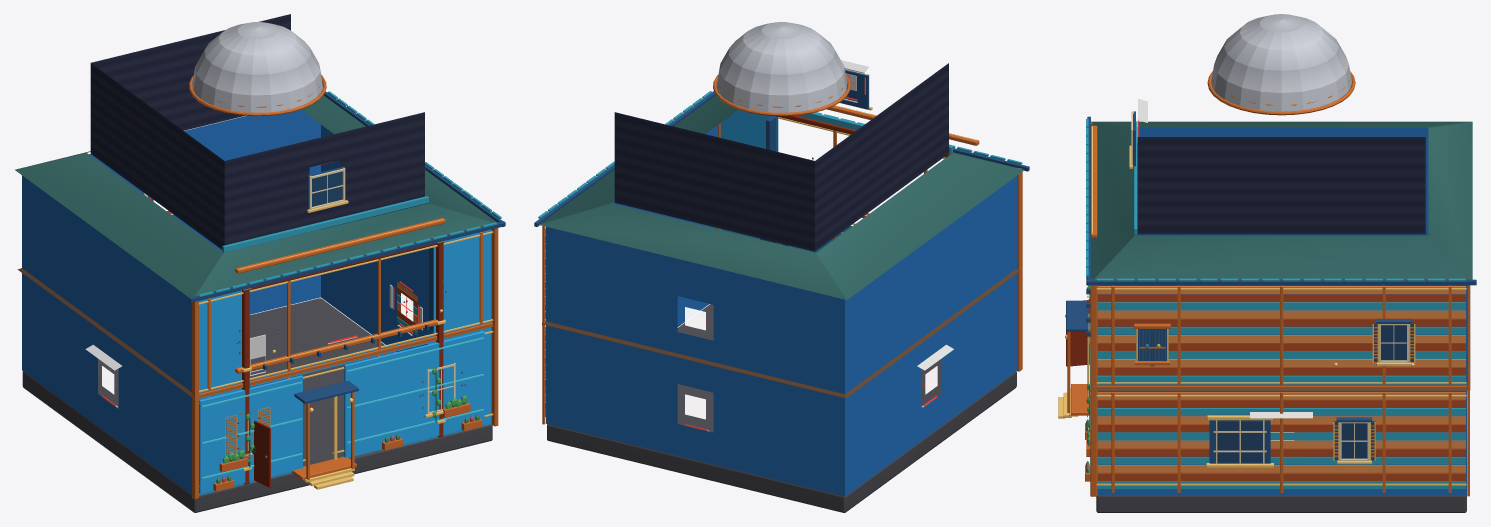
Rendered from exterior-home-CyvSRCr6.glb.
The picture shows the model from 3 angles, left to right: view 1: azimuth 30°, elevation 25°; view 2: azimuth 150°, elevation 25°; view 3: azimuth 270°, elevation 25°; orthographic projection. The views are drawn at different scales.
Visible parts, largest first — view 1: WallLeft, RoofMain, Foundation, ObsFront, ObsLeft, EXT_GroundFacade_Right, WallFront, ObsDome, EXT_GroundFacade_Left, ObsBack, WallRight, WallBack (+18 smaller); view 2: WallBack, WallLeft, RoofMain, ObsBack, ObsLeft, Foundation, ObsDome, BeltCourse, WallFront, CUTAWAY_CornerSoft_0, EXT_Corner_9.49_9.49, EXT_Eave_Right (+3 smaller); view 3: ObsRight, RoofMain, ObsDome, WallRight, Foundation, WallLeft, EXT_Right_Upper_Board_1, EXT_Right_Upper_Board_8, EXT_Right_Upper_Board_9, EXT_Right_Upper_Board_10, EXT_Right_Lower_Board_1, EXT_Right_Lower_Board_10 (+38 smaller).
Boxes of the visible parts, bbox=[...] form: WallLeft: bbox=[22, 175, 191, 494]; RoofMain: bbox=[15, 95, 496, 297]; Foundation: bbox=[22, 298, 492, 512]; ObsFront: bbox=[224, 112, 424, 245]; ObsLeft: bbox=[90, 63, 224, 249]; EXT_GroundFacade_Right: bbox=[344, 331, 484, 457]; WallFront: bbox=[199, 229, 491, 495]; ObsDome: bbox=[192, 22, 322, 112]; EXT_GroundFacade_Left: bbox=[199, 375, 302, 493]; ObsBack: bbox=[91, 14, 290, 130]; WallRight: bbox=[321, 125, 433, 352]; WallBack: bbox=[89, 110, 320, 314]; WallBack: bbox=[546, 226, 844, 496]; WallLeft: bbox=[845, 176, 1016, 496]; RoofMain: bbox=[539, 95, 1024, 299]; ObsBack: bbox=[614, 112, 814, 251]; ObsLeft: bbox=[815, 63, 948, 251]; Foundation: bbox=[547, 304, 1016, 512]; ObsDome: bbox=[716, 22, 847, 112]; BeltCourse: bbox=[544, 269, 1020, 398]; WallFront: bbox=[720, 110, 852, 237]; CUTAWAY_CornerSoft_0: bbox=[1017, 168, 1022, 371]; EXT_Corner_9.49_9.49: bbox=[542, 226, 545, 424]; EXT_Eave_Right: bbox=[534, 91, 715, 226]; ObsRight: bbox=[1137, 137, 1425, 234]; RoofMain: bbox=[1091, 121, 1472, 279]; ObsDome: bbox=[1211, 14, 1351, 111]; WallRight: bbox=[1097, 285, 1466, 494]; Foundation: bbox=[1096, 432, 1466, 512]; WallLeft: bbox=[1134, 127, 1428, 235]; EXT_Right_Upper_Board_1: bbox=[1097, 367, 1465, 375]; EXT_Right_Upper_Board_8: bbox=[1097, 310, 1465, 318]; EXT_Right_Upper_Board_9: bbox=[1097, 302, 1465, 310]; EXT_Right_Upper_Board_10: bbox=[1097, 294, 1465, 302]; EXT_Right_Lower_Board_1: bbox=[1097, 473, 1465, 480]; EXT_Right_Lower_Board_10: bbox=[1097, 400, 1465, 407].
Bounding box in the file's own units: 20.18 × 23.25 × 21.23.
